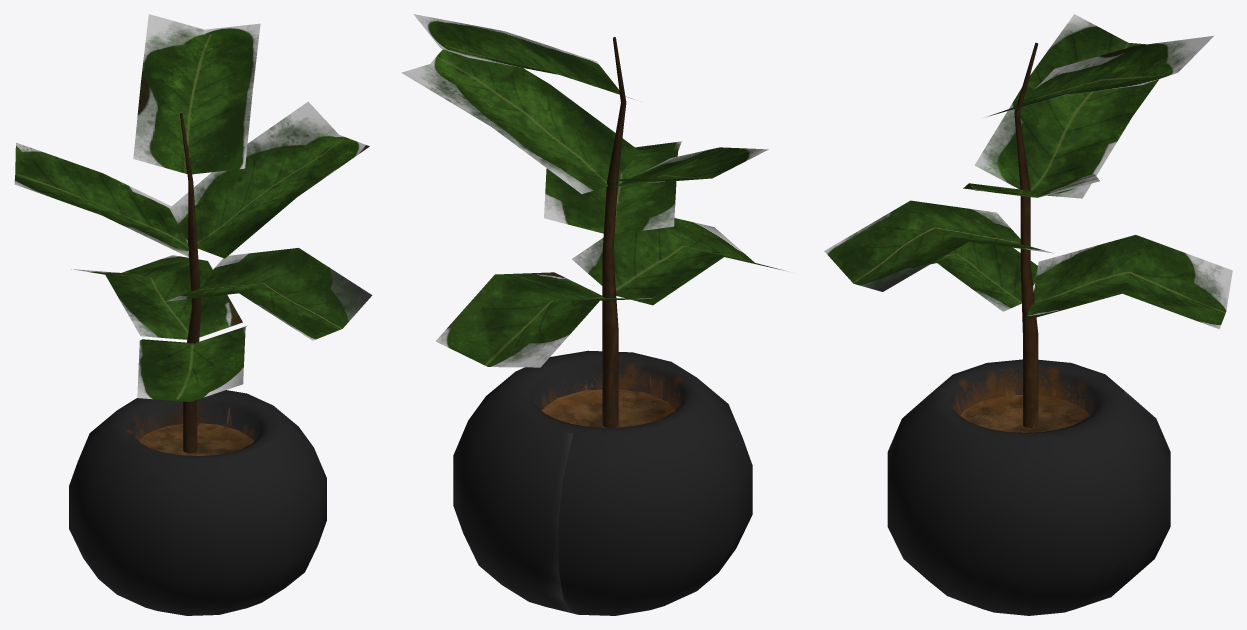
File: PlantPot_ME.fbx
The picture shows the model from 3 angles, left to right: view 1: azimuth 30°, elevation 25°; view 2: azimuth 150°, elevation 25°; view 3: azimuth 270°, elevation 25°; orthographic projection. The views are drawn at different scales.
Parts seen in each view (by area): view 1: PottedPlant; view 2: PottedPlant; view 3: PottedPlant.
Part boxes in pixels (<box>): PottedPlant: <box>14,14,372,615</box>; PottedPlant: <box>401,14,790,615</box>; PottedPlant: <box>824,14,1232,615</box>.
Size of the model in its own units: 22.61 by 22.92 by 36.04.
Materials: 1 (1 with a texture image).
